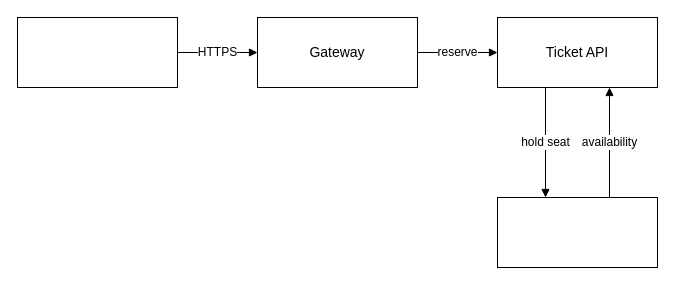
Some shapes in this 675 by 285 pixel diagram are drawn without their labels. Each missing label, with the centre of its shape:
Browser: pixel 97 52
Seat Store: pixel 577 232
